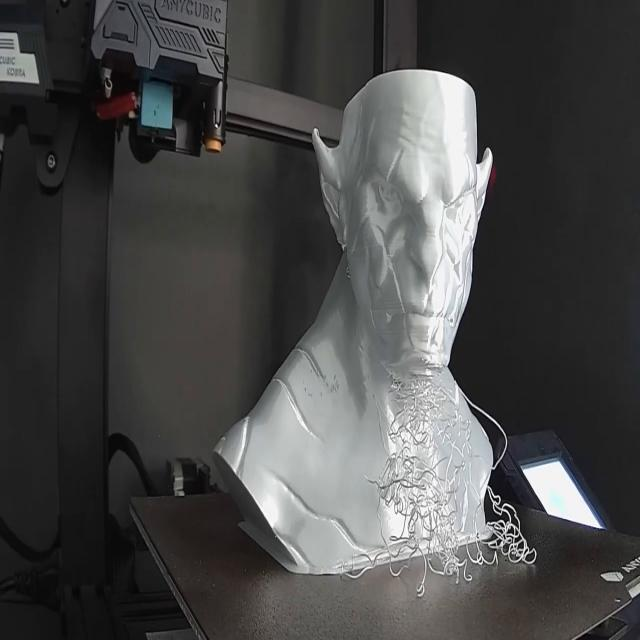spaghetti: (327, 358, 553, 610)
